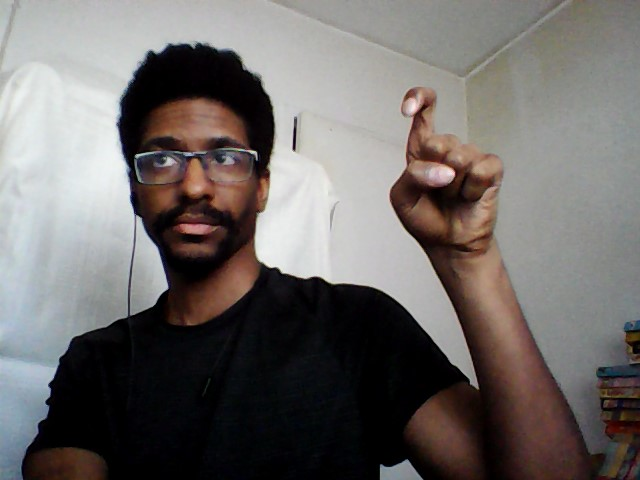x: (384, 80, 507, 259)
